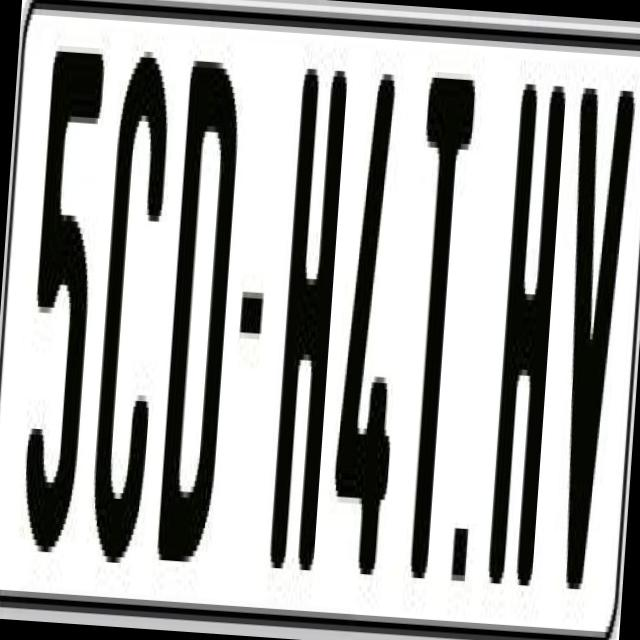4: (324, 72, 416, 604)
5: (20, 33, 115, 537)
C: (82, 38, 178, 570)
D: (155, 59, 246, 564)
H: (266, 68, 348, 576), (482, 82, 562, 602)
T: (392, 71, 477, 597)
V: (542, 87, 635, 614)
